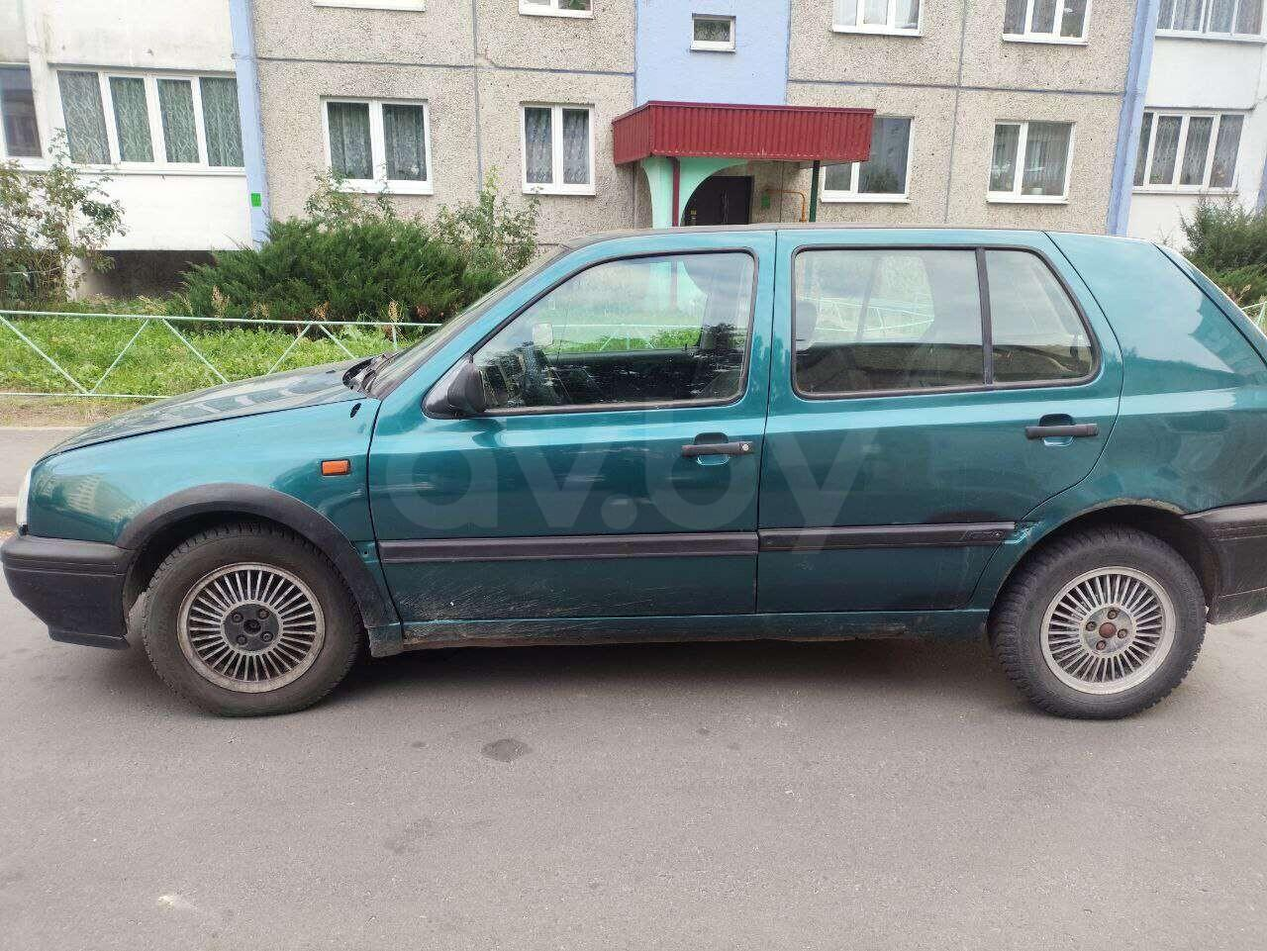Golf_1991-2000: (3, 211, 1267, 713)
